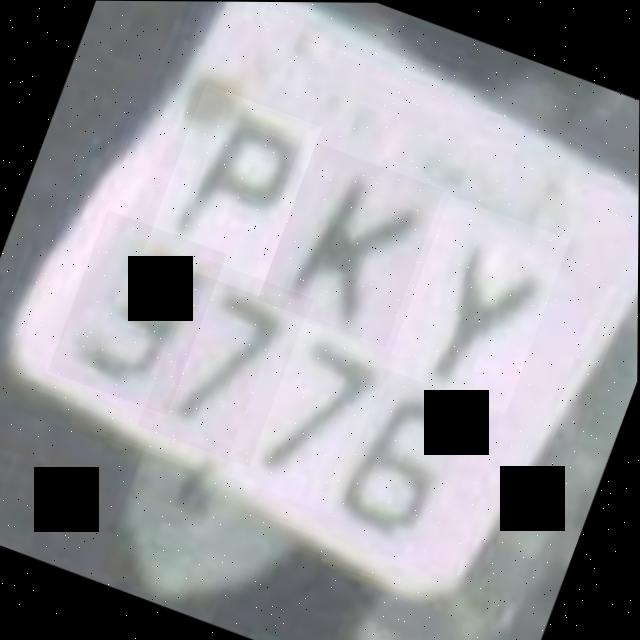6: (310, 347, 496, 572)
7: (138, 257, 314, 468), (224, 313, 392, 515)
9: (48, 209, 227, 415)
K: (258, 142, 444, 347)
P: (143, 83, 322, 296)
Y: (386, 195, 570, 413)
